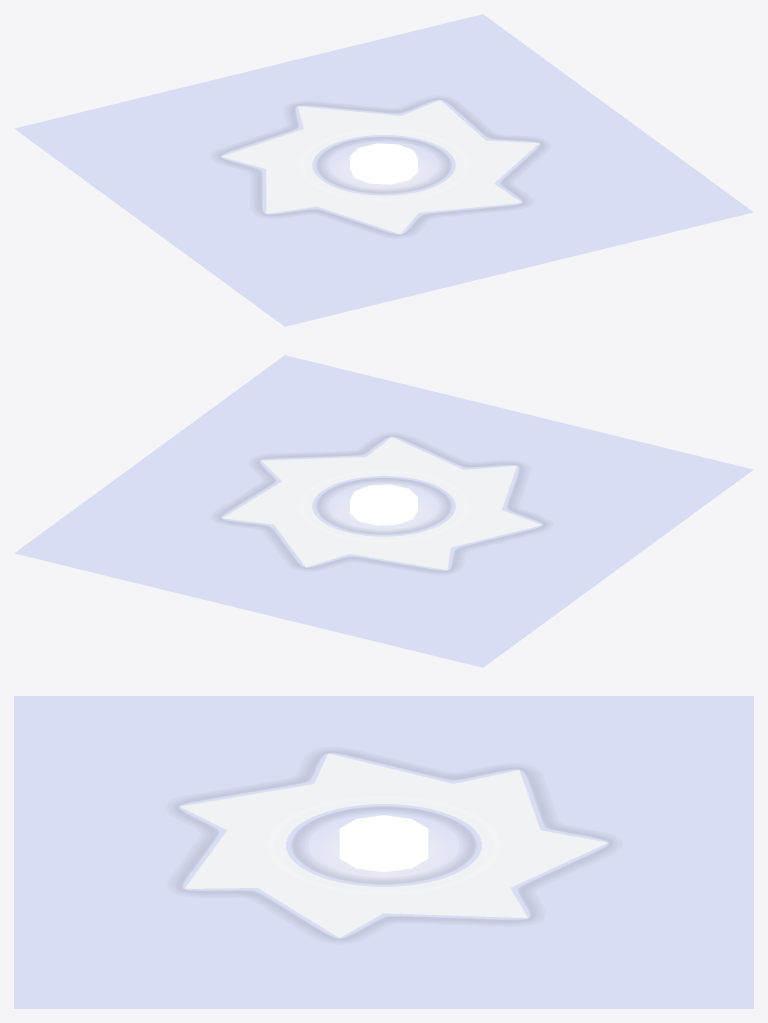
File: fx_chakram_t3.glb
3 renders of one model, top to bottom at view 1: azimuth 30°, elevation 25°; view 2: azimuth 150°, elevation 25°; view 3: azimuth 270°, elevation 25°, orthographic. The views are drawn at different scales.
Parts seen in each view (by area): view 1: fx_chakram_halo, fx_chakram, fx_chakram_metal; view 2: fx_chakram_halo, fx_chakram, fx_chakram_metal; view 3: fx_chakram_halo, fx_chakram, fx_chakram_metal.
Boxes of the visible parts, <box> form: fx_chakram_halo: <box>14,14,753,326</box>; fx_chakram: <box>217,98,544,235</box>; fx_chakram_metal: <box>350,143,417,184</box>; fx_chakram_halo: <box>14,355,753,667</box>; fx_chakram: <box>217,435,546,572</box>; fx_chakram_metal: <box>350,484,417,525</box>; fx_chakram_halo: <box>14,696,753,1008</box>; fx_chakram: <box>174,751,613,940</box>; fx_chakram_metal: <box>339,815,428,872</box>.
Size of the model in its own units: 1.9 by 0.05 by 1.9.
3 materials, 2 textured.
